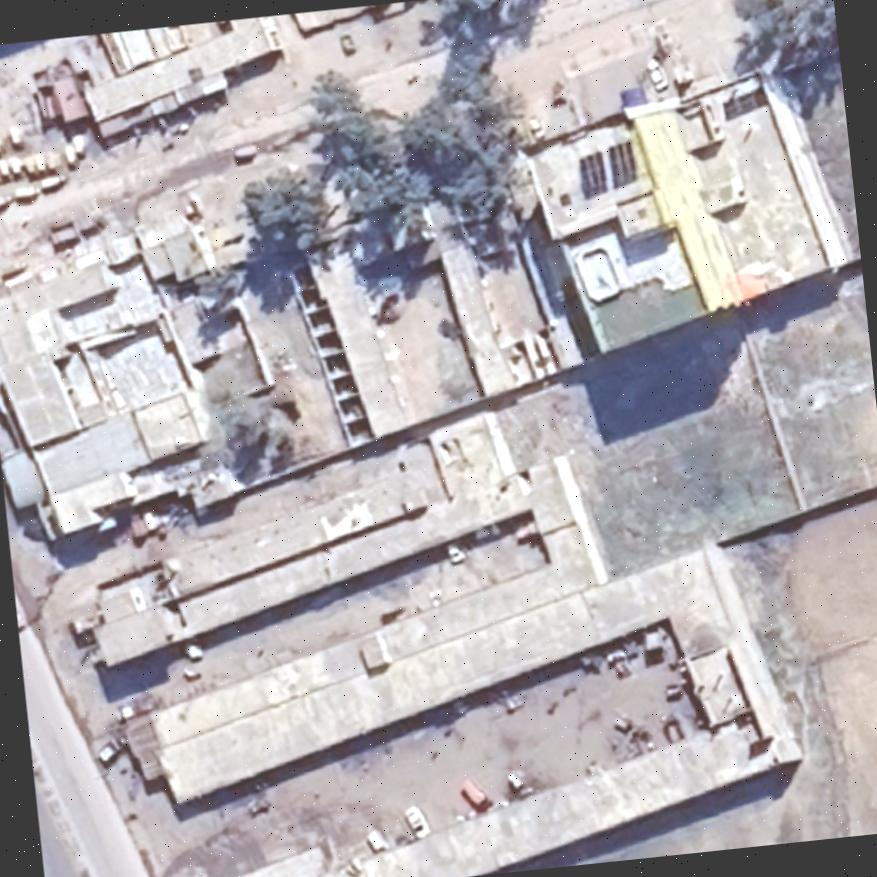Solarpanel: (571, 133, 644, 205)
